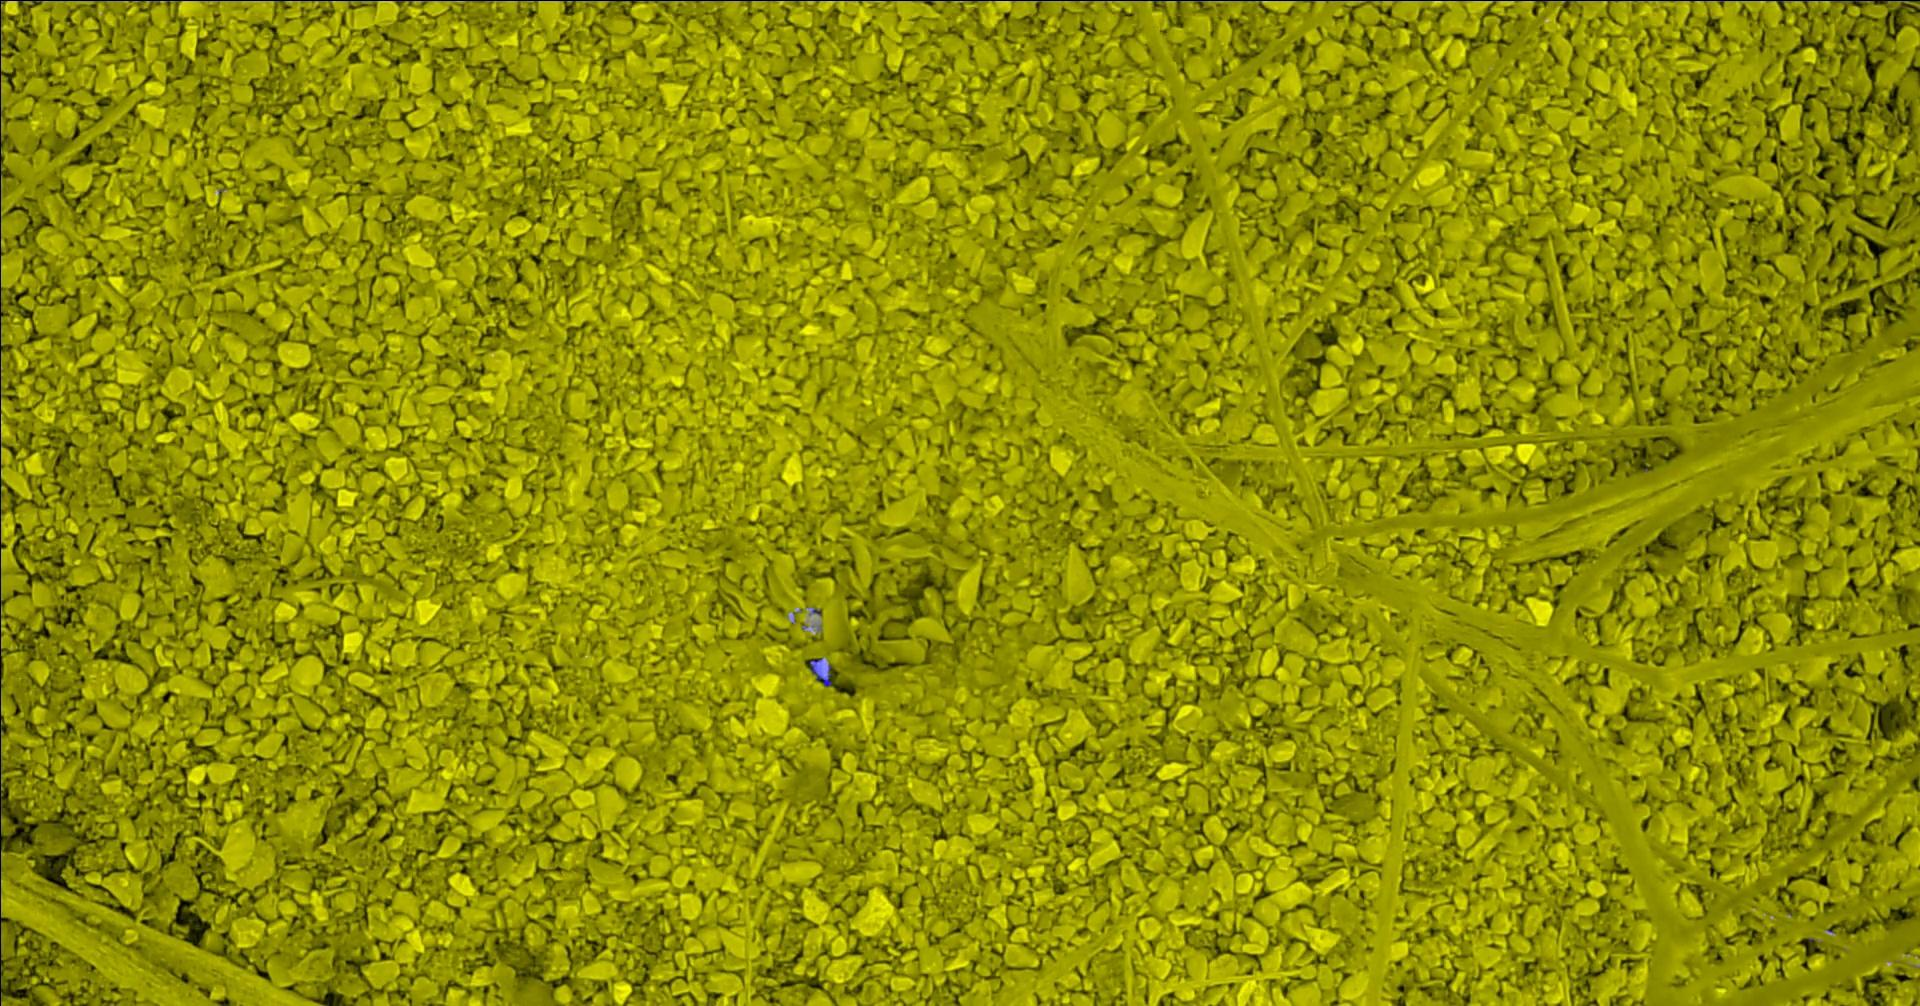ant: (809, 658, 830, 686)
